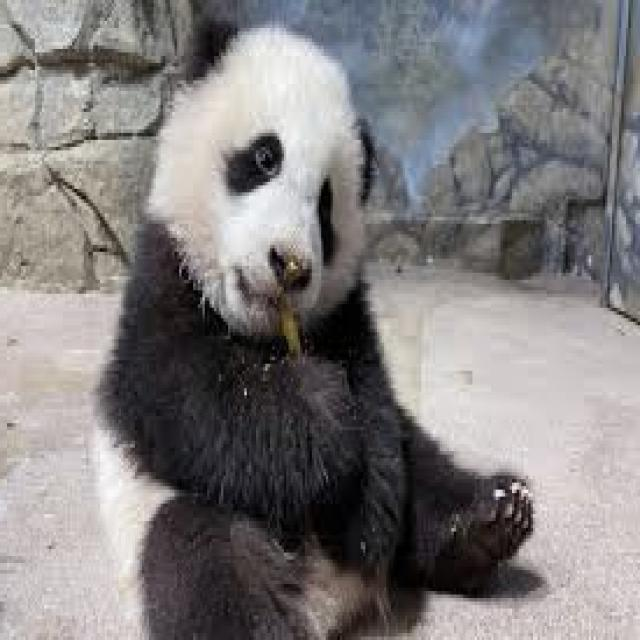panda: (95, 21, 533, 637)
